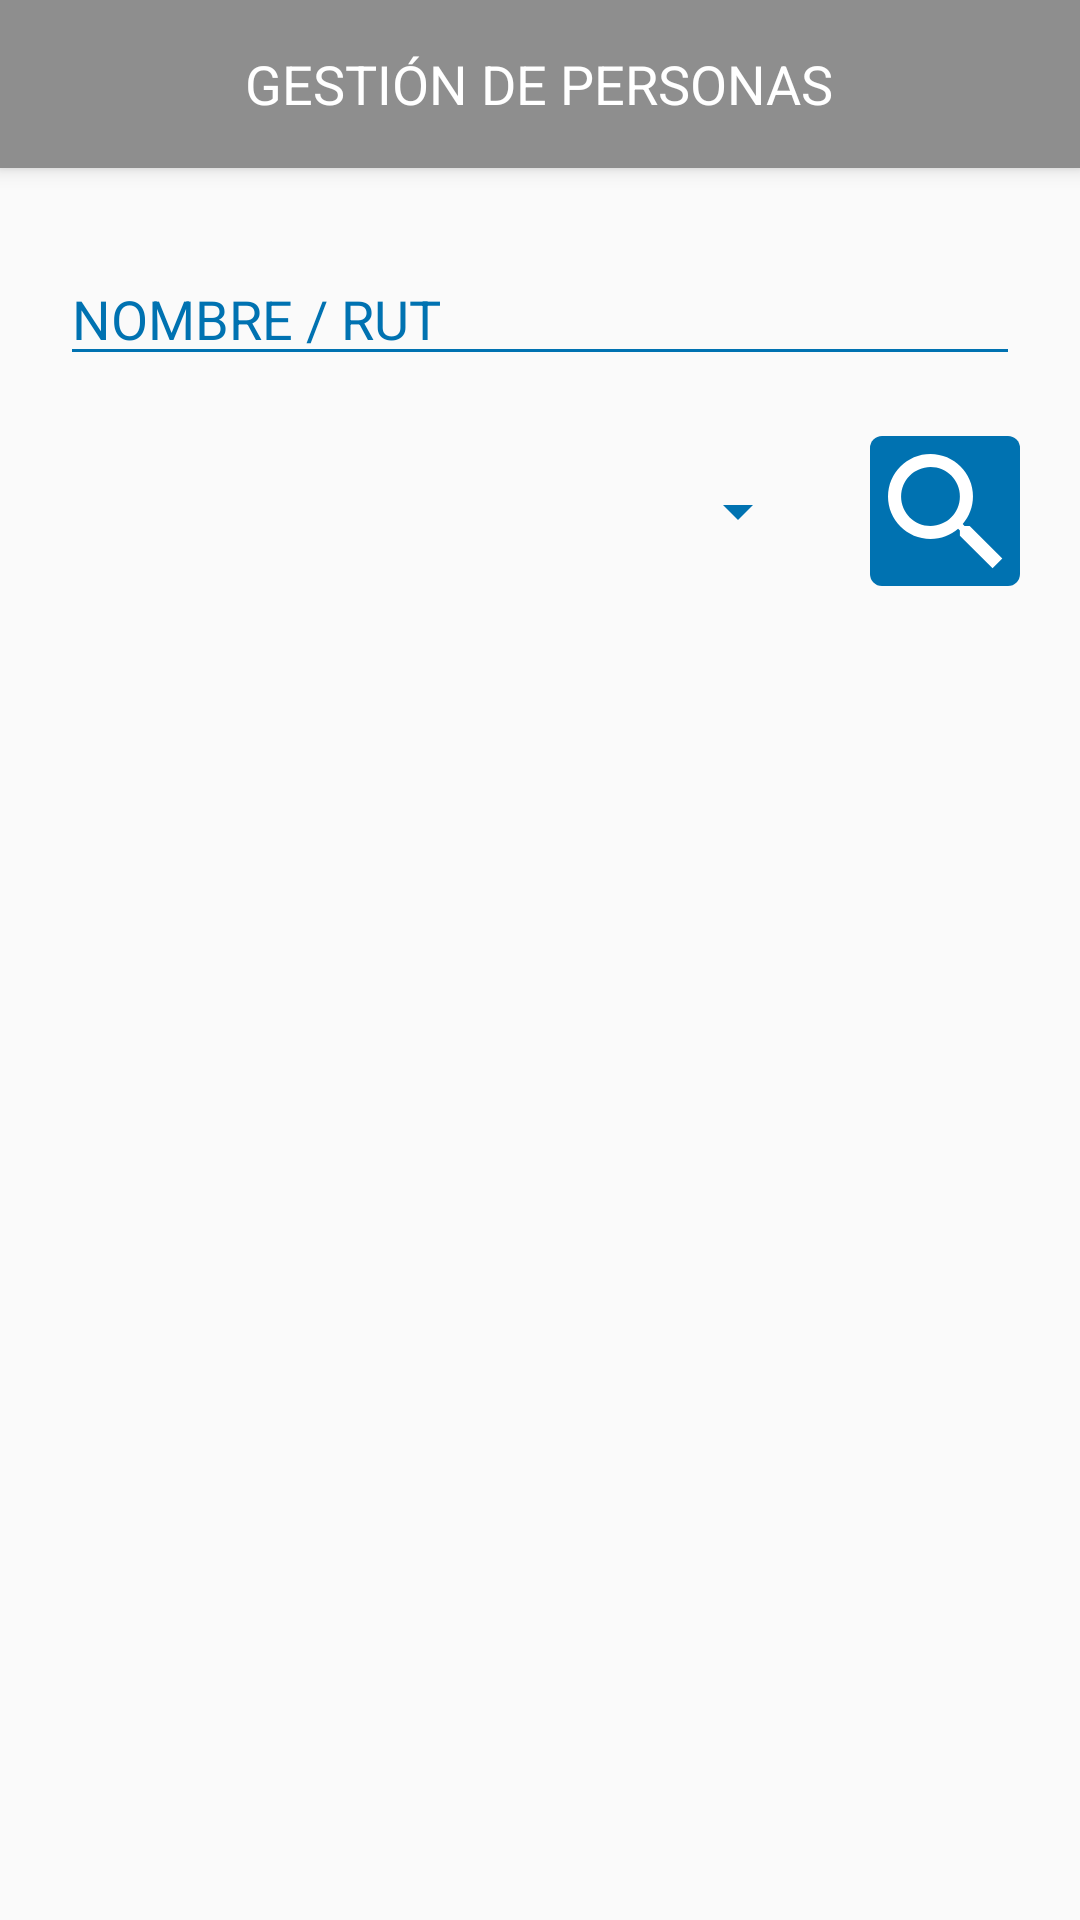

Locate icon controls on the screen. Image size 1080w x 1920h, boxes as region(x1, y1, x2, y2).
busqueda: region(870, 436, 1020, 586)
